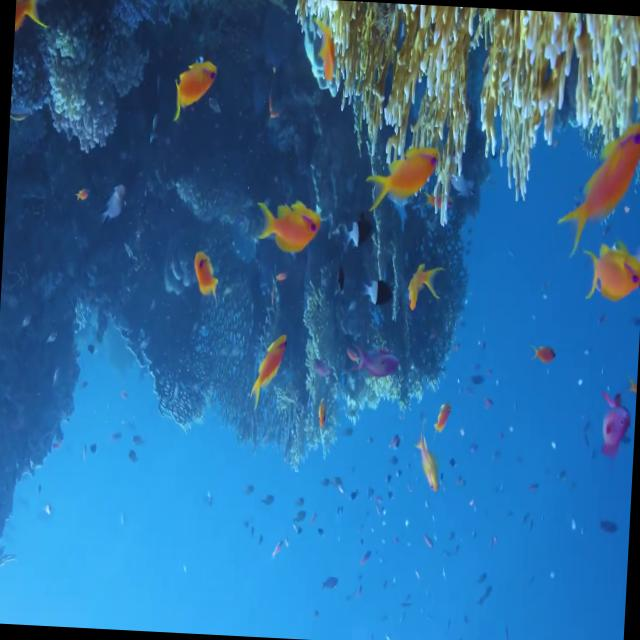fish: (562, 124, 640, 246), (366, 148, 441, 210), (581, 237, 640, 308), (258, 196, 325, 254), (244, 330, 290, 412), (168, 59, 225, 118), (195, 246, 222, 300)
